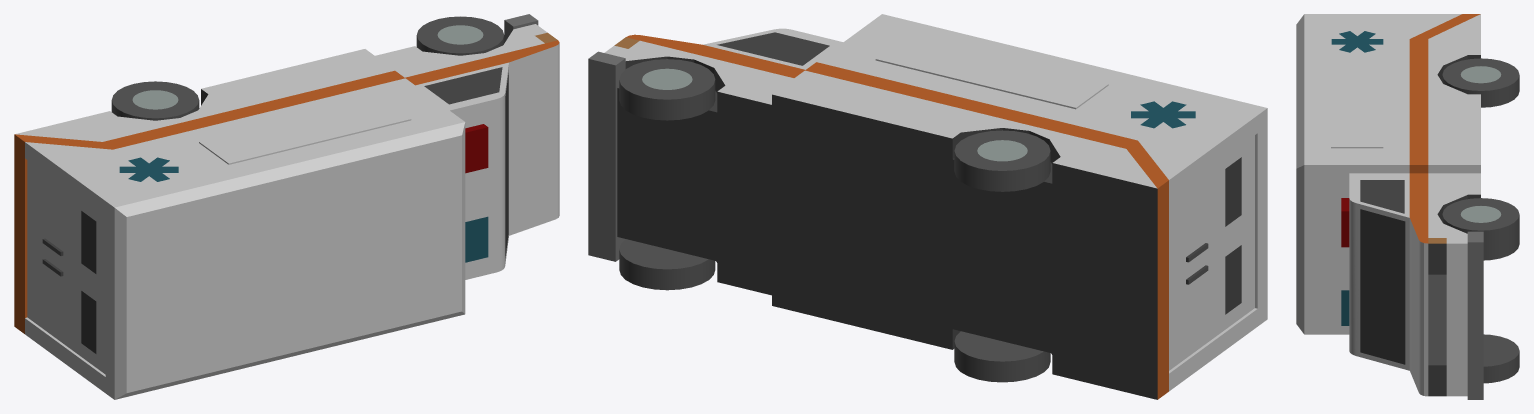
File: ambulance_car.dae
3 views of the same model, side by side, from view 1: azimuth 30°, elevation 25°; view 2: azimuth 150°, elevation 25°; view 3: azimuth 270°, elevation 25° (orthographic). The views are drawn at different scales.
Visible parts, largest first — view 1: coords_ME_ID71_MA___auto_218, coords_ME_ID163_MA___auto_218, coords_ME_ID55_MA___auto_3, coords_ME_ID25_MA___auto_218, coords_ME_ID11_MA_material, coords_ME_ID41_MA_material, coords_ME_ID151_MA___auto_, coords_ME_ID175_MA___auto_218, coords_ME_ID187_MA___auto_2, coords_ME_ID133_MA___auto_275, coords_ME_ID157_MA___auto_275, coords_ME_ID225_MA___auto_ (+4 smaller); view 2: coords_ME_ID103_MA___auto_, coords_ME_ID71_MA___auto_218, coords_ME_ID163_MA___auto_218, coords_ME_ID55_MA___auto_3, coords_ME_ID25_MA___auto_218, coords_ME_ID63_MA___auto_51, coords_ME_ID11_MA_material, coords_ME_ID41_MA_material, coords_ME_ID83_MA_material, coords_ME_ID109_MA_material, coords_ME_ID151_MA___auto_, coords_ME_ID157_MA___auto_275 (+4 smaller); view 3: coords_ME_ID71_MA___auto_218, coords_ME_ID163_MA___auto_218, coords_ME_ID127_MA___auto_, coords_ME_ID55_MA___auto_3, coords_ME_ID25_MA___auto_218, coords_ME_ID63_MA___auto_51, coords_ME_ID11_MA_material, coords_ME_ID41_MA_material, coords_ME_ID243_MA___auto_51, coords_ME_ID109_MA_material, coords_ME_ID151_MA___auto_, coords_ME_ID157_MA___auto_275 (+9 smaller).
Part boxes in pixels (box(x1,y1,x2,y2)): coords_ME_ID71_MA___auto_218: box(25, 43, 559, 399); coords_ME_ID163_MA___auto_218: box(15, 24, 546, 141); coords_ME_ID55_MA___auto_3: box(14, 40, 559, 333); coords_ME_ID25_MA___auto_218: box(199, 97, 411, 164); coords_ME_ID11_MA_material: box(111, 81, 199, 120); coords_ME_ID41_MA_material: box(416, 16, 504, 55); coords_ME_ID151_MA___auto_: box(424, 67, 502, 104); coords_ME_ID175_MA___auto_218: box(465, 168, 488, 221); coords_ME_ID187_MA___auto_2: box(465, 124, 488, 173); coords_ME_ID133_MA___auto_275: box(465, 216, 488, 262); coords_ME_ID157_MA___auto_275: box(119, 157, 178, 181); coords_ME_ID225_MA___auto_: box(81, 211, 96, 273); coords_ME_ID103_MA___auto_: box(617, 56, 1157, 399); coords_ME_ID71_MA___auto_218: box(703, 14, 1267, 391); coords_ME_ID163_MA___auto_218: box(604, 40, 1157, 188); coords_ME_ID55_MA___auto_3: box(626, 34, 1168, 399); coords_ME_ID25_MA___auto_218: box(875, 35, 1108, 109); coords_ME_ID63_MA___auto_51: box(588, 51, 625, 261); coords_ME_ID11_MA_material: box(954, 130, 1050, 191); coords_ME_ID41_MA_material: box(619, 59, 715, 120); coords_ME_ID83_MA_material: box(954, 331, 1050, 382); coords_ME_ID109_MA_material: box(619, 239, 715, 290); coords_ME_ID151_MA___auto_: box(717, 32, 829, 65); coords_ME_ID157_MA___auto_275: box(1131, 101, 1195, 128); coords_ME_ID71_MA___auto_218: box(1296, 14, 1461, 396); coords_ME_ID163_MA___auto_218: box(1428, 14, 1480, 396); coords_ME_ID127_MA___auto_: box(1360, 209, 1405, 364); coords_ME_ID55_MA___auto_3: box(1409, 14, 1480, 243); coords_ME_ID25_MA___auto_218: box(1331, 68, 1383, 148); coords_ME_ID63_MA___auto_51: box(1467, 231, 1483, 399); coords_ME_ID11_MA_material: box(1442, 58, 1519, 107); coords_ME_ID41_MA_material: box(1442, 198, 1519, 247); coords_ME_ID243_MA___auto_51: box(1428, 274, 1446, 365); coords_ME_ID109_MA_material: box(1483, 334, 1519, 383); coords_ME_ID151_MA___auto_: box(1360, 180, 1404, 213); coords_ME_ID157_MA___auto_275: box(1331, 31, 1383, 52).
Size of the model in its own units: 61.22 by 22.1 by 25.97.
